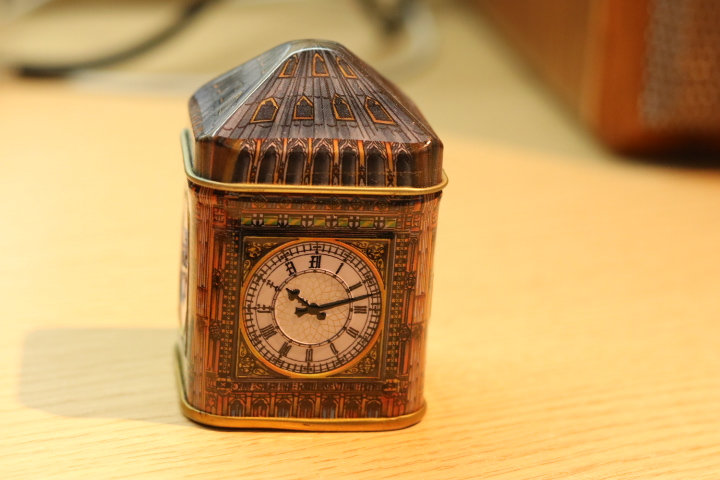Big Ben: (158, 28, 475, 457)
